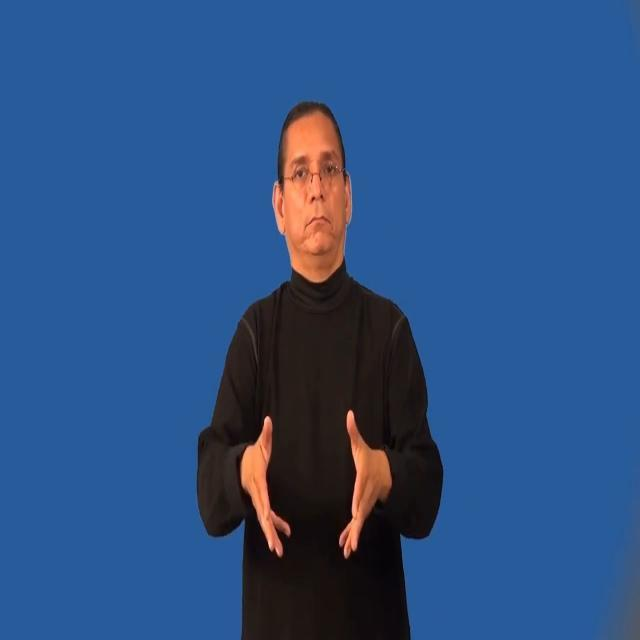total: (227, 378, 397, 584)
